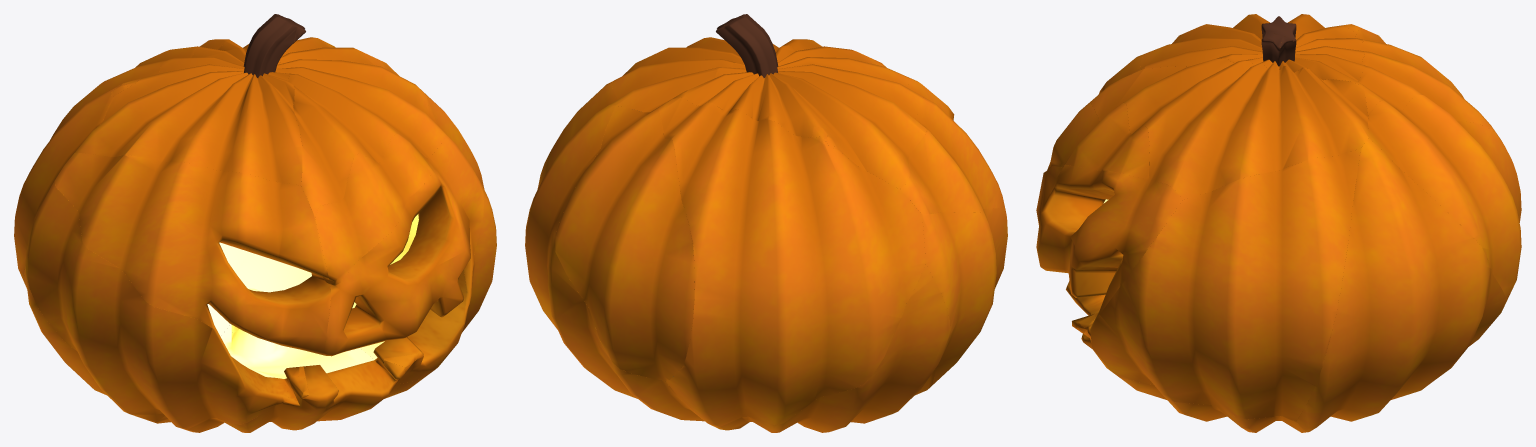
Rendered from Pumpkin-broken.glb.
The picture shows the model from 3 angles, left to right: view 1: azimuth 30°, elevation 25°; view 2: azimuth 150°, elevation 25°; view 3: azimuth 270°, elevation 25°; orthographic projection.
Visible parts, largest first — view 1: Pumpkin_broken_cell.017-rigid, Pumpkin_broken_cell.001-rigid, Pumpkin_broken_cell.012-rigid, Pumpkin_broken_cell.016-rigid, Pumpkin_broken_cell.011-rigid, Pumpkin_broken_cell.002-rigid, Pumpkin_broken_cell-rigid, Pumpkin_broken_cell.013-rigid, Pumpkin_broken_cell.015-rigid, Pumpkin_broken_cell.007-rigid, Pumpkin_broken_cell.018-rigid, Pumpkin_broken_cell.003-rigid; view 2: Pumpkin_broken_cell.015-rigid, Pumpkin_broken_cell.005-rigid, Pumpkin_broken_cell.012-rigid, Pumpkin_broken_cell.007-rigid, Pumpkin_broken_cell.003-rigid, Pumpkin_broken_cell.001-rigid, Pumpkin_broken_cell.017-rigid, Pumpkin_broken_cell.011-rigid, Pumpkin_broken_cell.018-rigid, Pumpkin_broken_cell.013-rigid; view 3: Pumpkin_broken_cell.013-rigid, Pumpkin_broken_cell.007-rigid, Pumpkin_broken_cell.011-rigid, Pumpkin_broken_cell.005-rigid, Pumpkin_broken_cell.016-rigid, Pumpkin_broken_cell.012-rigid, Pumpkin_broken_cell.015-rigid, Pumpkin_broken_cell-rigid, Pumpkin_broken_cell.004-rigid, Pumpkin_broken_cell.018-rigid, Pumpkin_broken_cell.002-rigid, Pumpkin_broken_cell.017-rigid.
Part boxes in pixels (left/top/right/bottom): Pumpkin_broken_cell.017-rigid: left=54, top=153, right=330, bottom=354; Pumpkin_broken_cell.001-rigid: left=25, top=181, right=320, bottom=429; Pumpkin_broken_cell.012-rigid: left=74, top=40, right=302, bottom=185; Pumpkin_broken_cell.016-rigid: left=322, top=136, right=483, bottom=356; Pumpkin_broken_cell.011-rigid: left=280, top=37, right=447, bottom=284; Pumpkin_broken_cell.002-rigid: left=155, top=324, right=401, bottom=432; Pumpkin_broken_cell-rigid: left=315, top=134, right=431, bottom=284; Pumpkin_broken_cell.013-rigid: left=352, top=61, right=496, bottom=384; Pumpkin_broken_cell.015-rigid: left=14, top=39, right=248, bottom=283; Pumpkin_broken_cell.007-rigid: left=219, top=44, right=335, bottom=292; Pumpkin_broken_cell.018-rigid: left=243, top=14, right=297, bottom=77; Pumpkin_broken_cell.003-rigid: left=24, top=266, right=229, bottom=422; Pumpkin_broken_cell.015-rigid: left=653, top=97, right=925, bottom=426; Pumpkin_broken_cell.005-rigid: left=555, top=106, right=694, bottom=381; Pumpkin_broken_cell.012-rigid: left=680, top=45, right=926, bottom=189; Pumpkin_broken_cell.007-rigid: left=525, top=104, right=717, bottom=427; Pumpkin_broken_cell.003-rigid: left=717, top=264, right=950, bottom=432; Pumpkin_broken_cell.001-rigid: left=922, top=207, right=1007, bottom=384; Pumpkin_broken_cell.017-rigid: left=900, top=77, right=1004, bottom=213; Pumpkin_broken_cell.011-rigid: left=610, top=37, right=886, bottom=112; Pumpkin_broken_cell.018-rigid: left=716, top=14, right=778, bottom=77; Pumpkin_broken_cell.013-rigid: left=537, top=68, right=630, bottom=189; Pumpkin_broken_cell.013-rigid: left=1083, top=148, right=1360, bottom=421; Pumpkin_broken_cell.007-rigid: left=1296, top=138, right=1506, bottom=432; Pumpkin_broken_cell.011-rigid: left=1086, top=58, right=1368, bottom=199; Pumpkin_broken_cell.005-rigid: left=1368, top=94, right=1521, bottom=299; Pumpkin_broken_cell.016-rigid: left=1036, top=164, right=1183, bottom=321; Pumpkin_broken_cell.012-rigid: left=1124, top=14, right=1364, bottom=85; Pumpkin_broken_cell.015-rigid: left=1355, top=27, right=1508, bottom=153; Pumpkin_broken_cell-rigid: left=1049, top=103, right=1149, bottom=179; Pumpkin_broken_cell.004-rigid: left=1120, top=378, right=1306, bottom=432; Pumpkin_broken_cell.018-rigid: left=1261, top=16, right=1296, bottom=66; Pumpkin_broken_cell.002-rigid: left=1066, top=281, right=1226, bottom=417; Pumpkin_broken_cell.017-rigid: left=1041, top=32, right=1185, bottom=203.
Bounding box in the file's own units: 35.66 × 30.96 × 35.66.
Materials: 2 (1 with a texture image).
